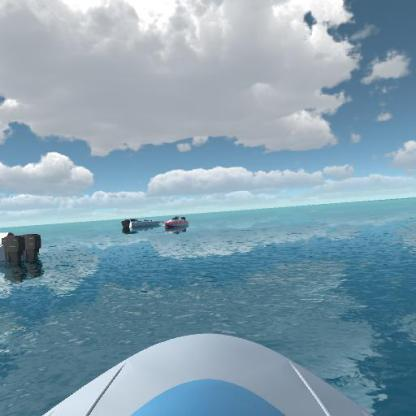usv1: (0, 221, 45, 268), (114, 210, 162, 237)
usv3: (161, 211, 191, 236)
